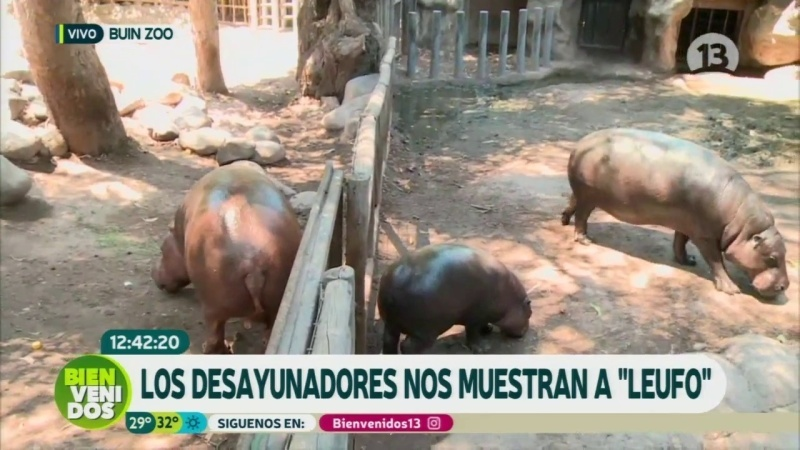hipopotamo: (551, 109, 794, 320), (130, 152, 311, 345), (366, 232, 557, 356)
